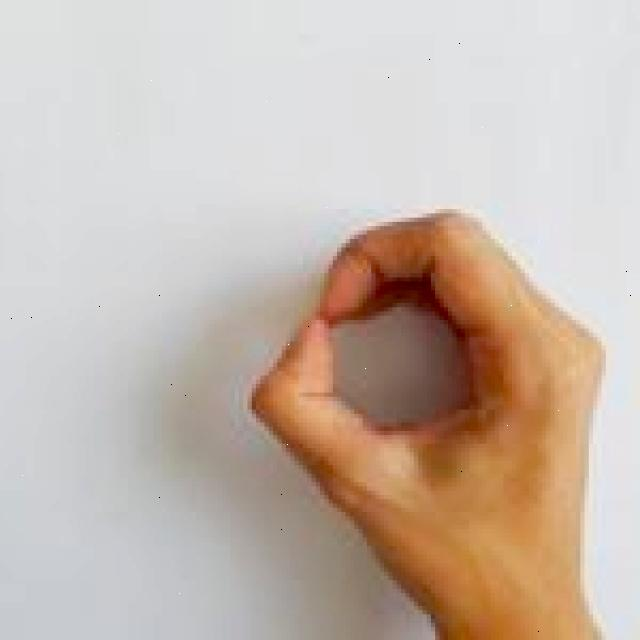O: (245, 199, 618, 640)
